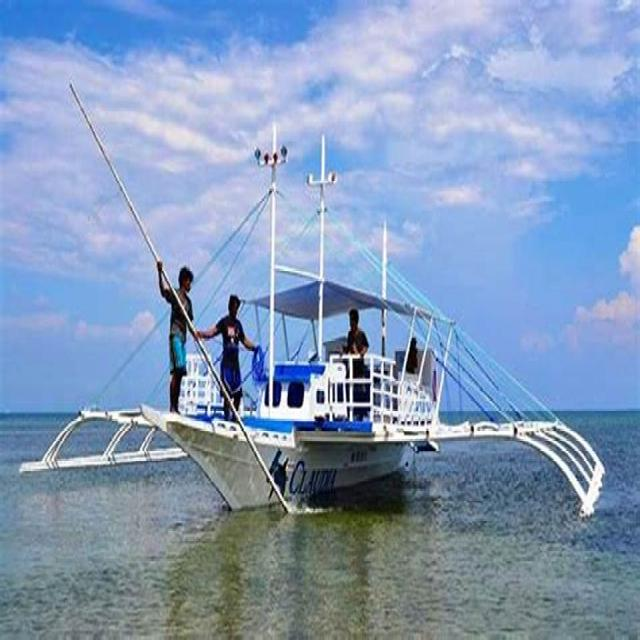Fishing Boat: (38, 113, 537, 567)
